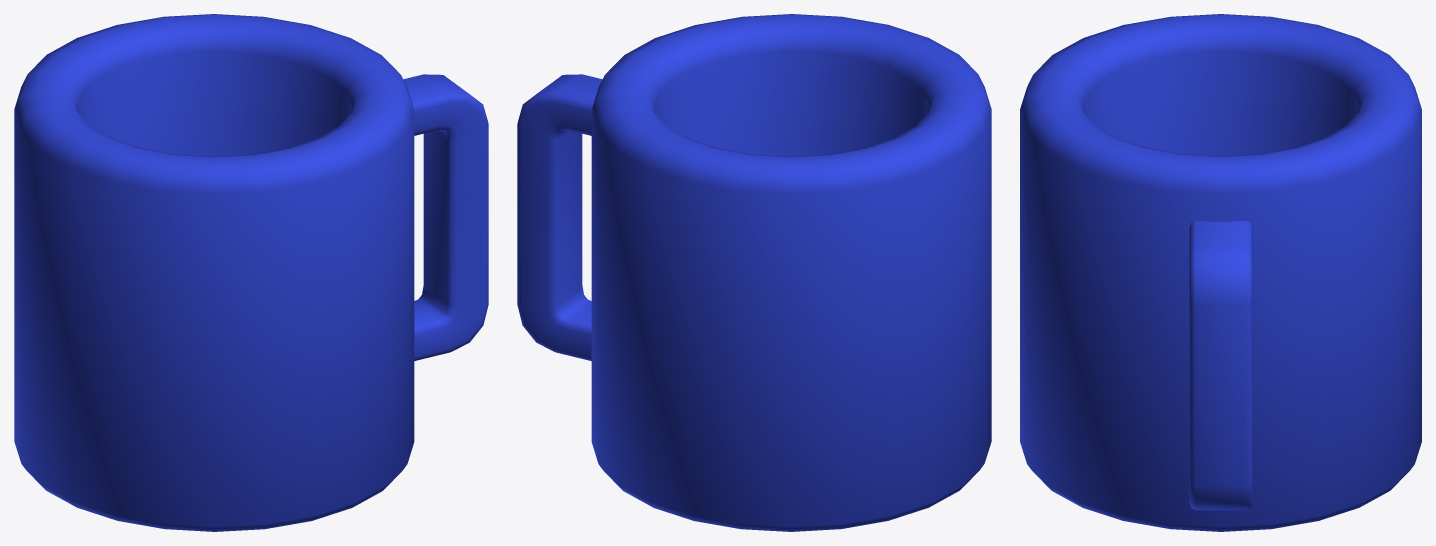
Rendered from Mug1_blue.fbx.
3 views of the same model, side by side, from view 1: azimuth 30°, elevation 25°; view 2: azimuth 150°, elevation 25°; view 3: azimuth 270°, elevation 25° (orthographic).
Visible parts, largest first — view 1: Mug1_Blue; view 2: Mug1_Blue; view 3: Mug1_Blue.
Part boxes in pixels (x1=…): Mug1_Blue: x1=14, y1=14, x2=488, y2=531; Mug1_Blue: x1=517, y1=14, x2=991, y2=531; Mug1_Blue: x1=1020, y1=14, x2=1421, y2=531.
Bounding box in the file's own units: 16.75 × 13.4 × 13.4.
